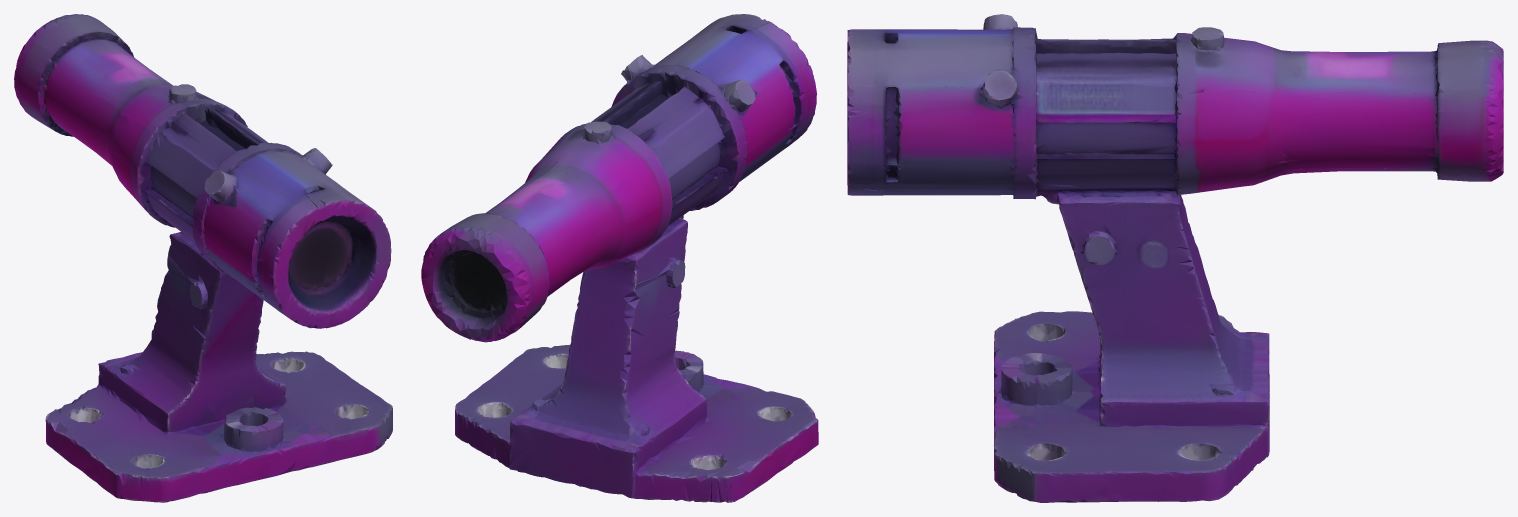
File: indycar_gatling.glb
3 renders of one model, left to right at view 1: azimuth 30°, elevation 25°; view 2: azimuth 150°, elevation 25°; view 3: azimuth 270°, elevation 25°, orthographic. The views are drawn at different scales.
Parts seen in each view (by area): view 1: Gatling_IndyCar_x; view 2: Gatling_IndyCar_x; view 3: Gatling_IndyCar_x.
Part boxes in pixels (<box>): Gatling_IndyCar_x: <box>14,14,392,502</box>; Gatling_IndyCar_x: <box>421,14,818,502</box>; Gatling_IndyCar_x: <box>847,14,1503,502</box>.
Bounding box in the file's own units: 0.4692 × 0.5245 × 0.8001.
1 material, 1 textured.
